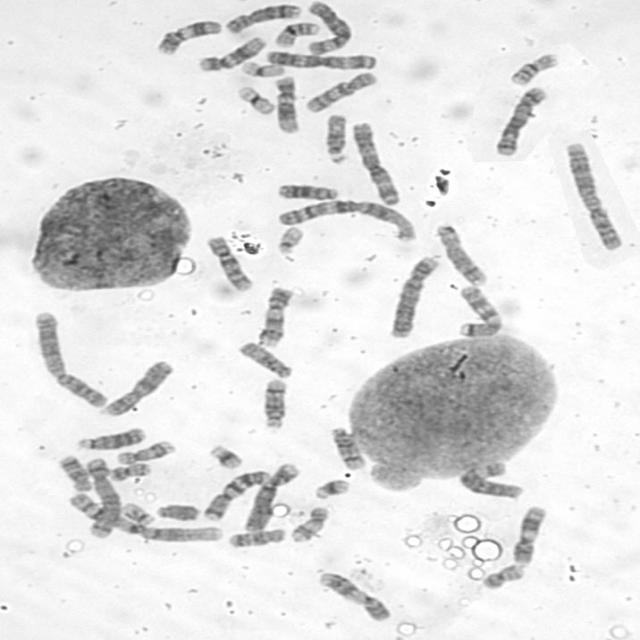A1: (64, 493, 224, 545), (276, 199, 420, 242)
A2: (32, 311, 110, 409), (565, 142, 625, 254)
A3: (350, 121, 404, 206), (265, 49, 379, 71)
B4: (388, 255, 440, 339), (242, 463, 302, 534)
B5: (492, 84, 548, 156), (85, 458, 123, 538)
C10: (304, 72, 378, 114), (206, 236, 255, 292)
C11: (154, 19, 222, 57), (511, 506, 548, 564)
C12: (197, 36, 269, 72), (275, 74, 302, 134)
C6: (306, 1, 353, 56), (458, 462, 526, 499)
C7: (202, 469, 271, 523), (458, 285, 505, 339)
C8: (435, 225, 488, 286), (223, 2, 304, 35)
C9: (316, 571, 392, 622), (256, 286, 296, 346)
D13: (74, 427, 148, 452), (277, 182, 339, 201)
D14: (330, 426, 366, 471), (262, 379, 289, 429)
D15: (236, 340, 295, 379), (322, 114, 350, 165)
E16: (511, 52, 562, 87), (272, 22, 322, 48)
E17: (288, 507, 332, 542), (115, 440, 177, 464)
E18: (56, 454, 92, 492), (228, 527, 288, 549)
F19: (237, 86, 276, 116), (239, 60, 288, 78)
F20: (482, 562, 528, 591), (107, 461, 153, 483)
G21: (206, 443, 246, 470), (312, 478, 351, 501)
G22: (120, 502, 156, 528), (277, 227, 305, 256)
X: (104, 360, 174, 417)
Y: (156, 502, 200, 522)
